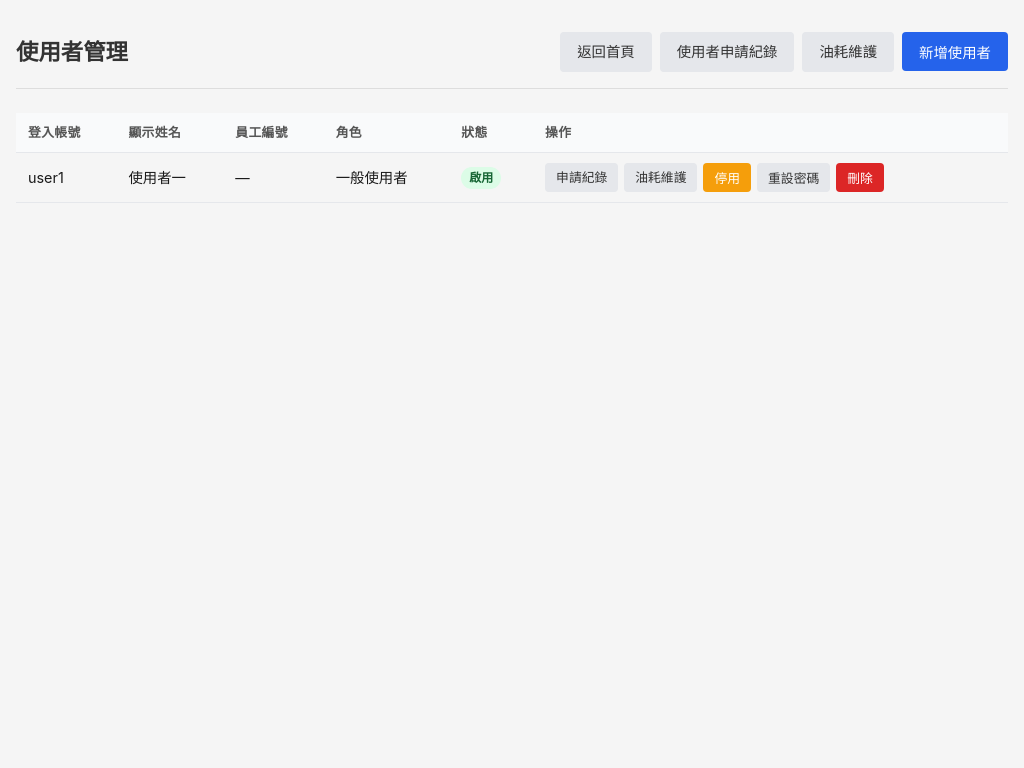
AdminUsersPage › 新增使用者：帳號重複（409）→ 顯示「帳號已被使用」
This screenshot has width=1024, height=768.
Expected: the text "user1" is shown, [16, 152, 116, 203]
Click the button "新增使用者" at (955, 52), box [902, 32, 1008, 71]
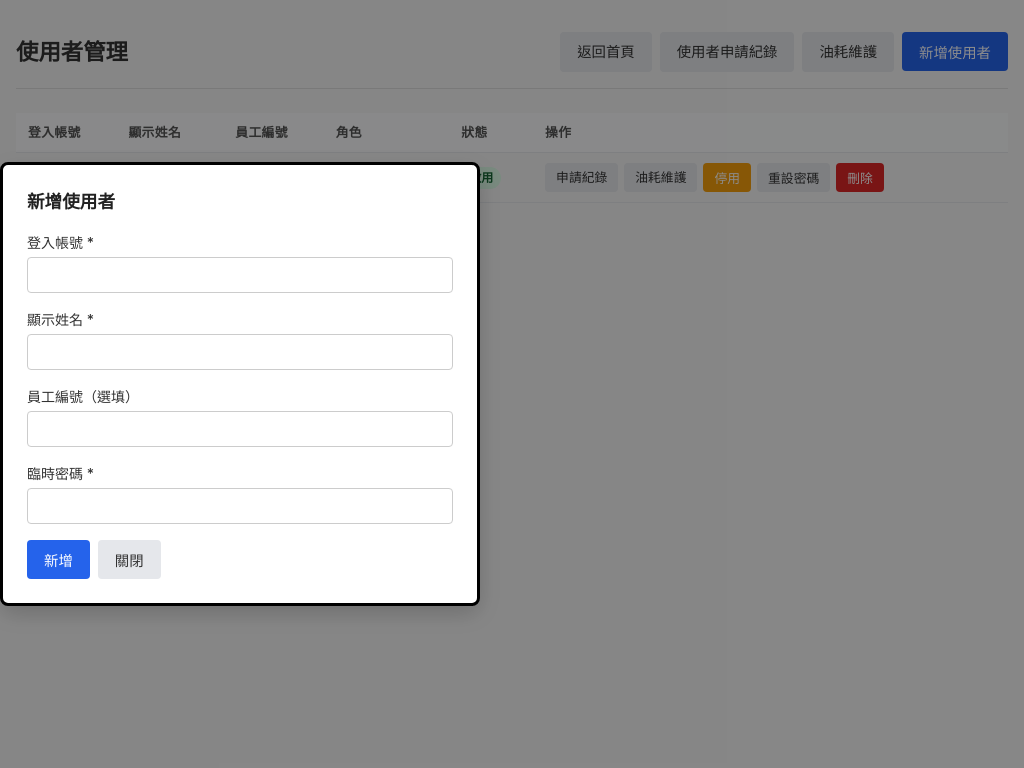
Expected: the field labelled "登入帳號 *" is shown
Type "user1" into the field labelled "登入帳號 *" at (240, 275), box [27, 257, 453, 293]
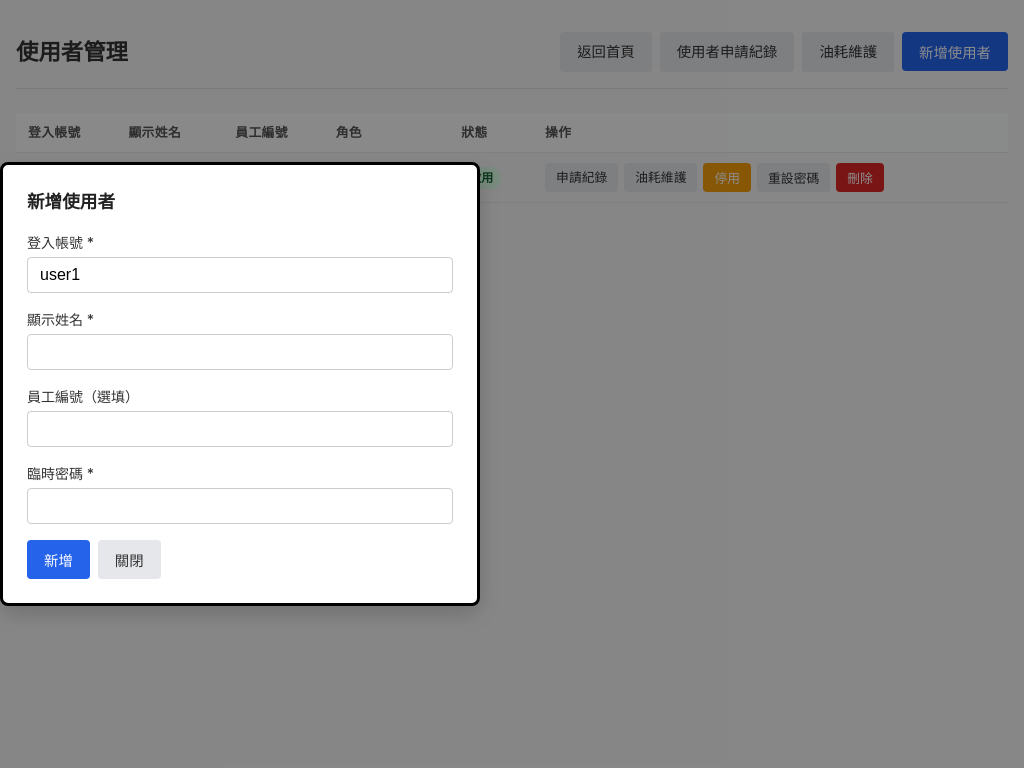
Type "重複使用者" into the field labelled "顯示姓名 *" at (240, 352), box [27, 334, 453, 370]
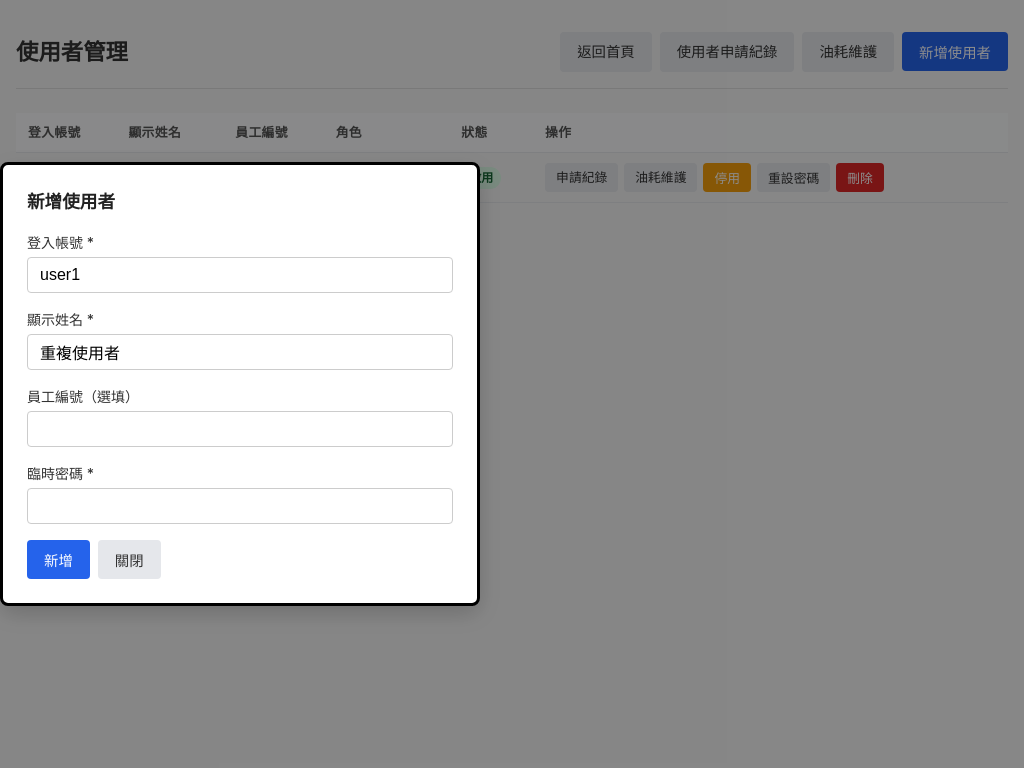
Type "TempPass1234" into the password field labelled "臨時密碼 *" at (240, 506), box [27, 488, 453, 524]
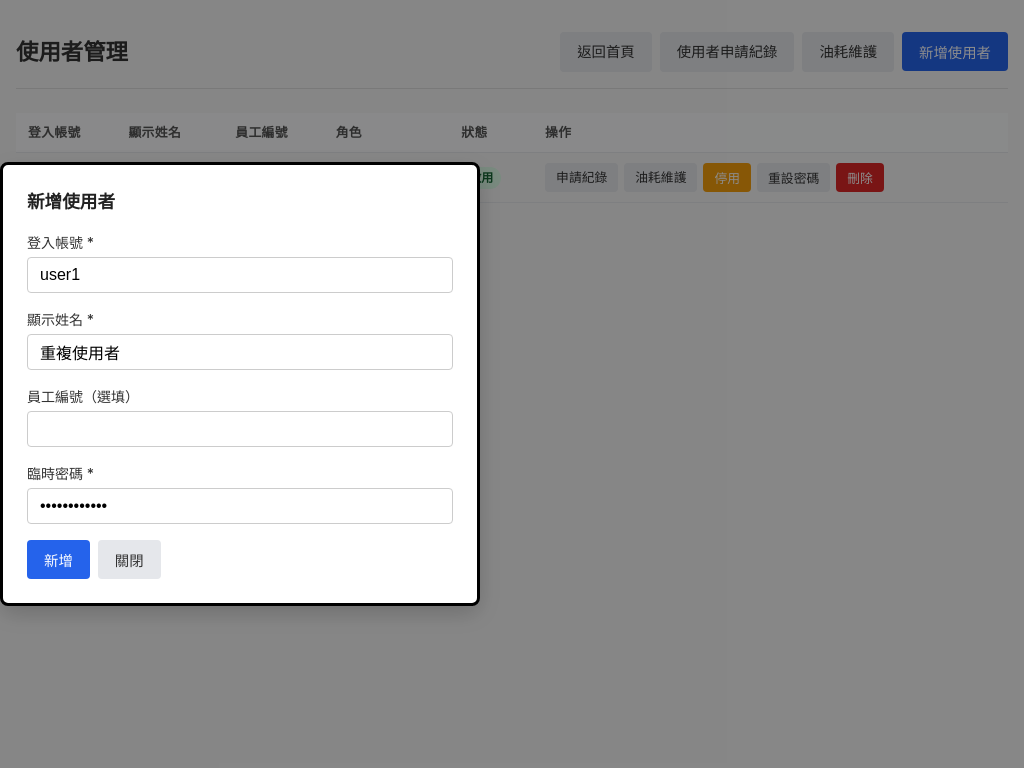
Click the button "新增" at (58, 559), box [27, 540, 90, 579]
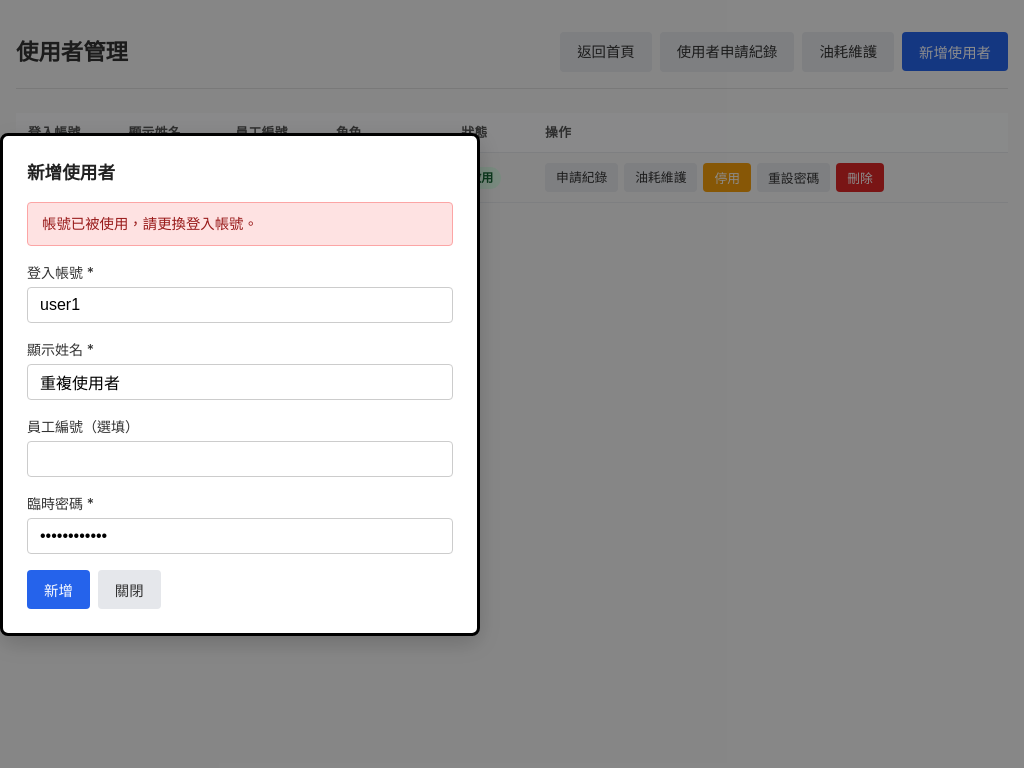
Expected: the text "帳號已被使用，請更換登入帳號。" is shown, [27, 202, 453, 246]
